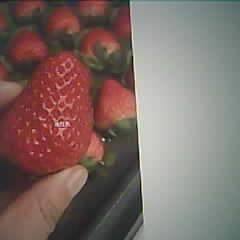straw-ripe: (0, 56, 95, 173)
